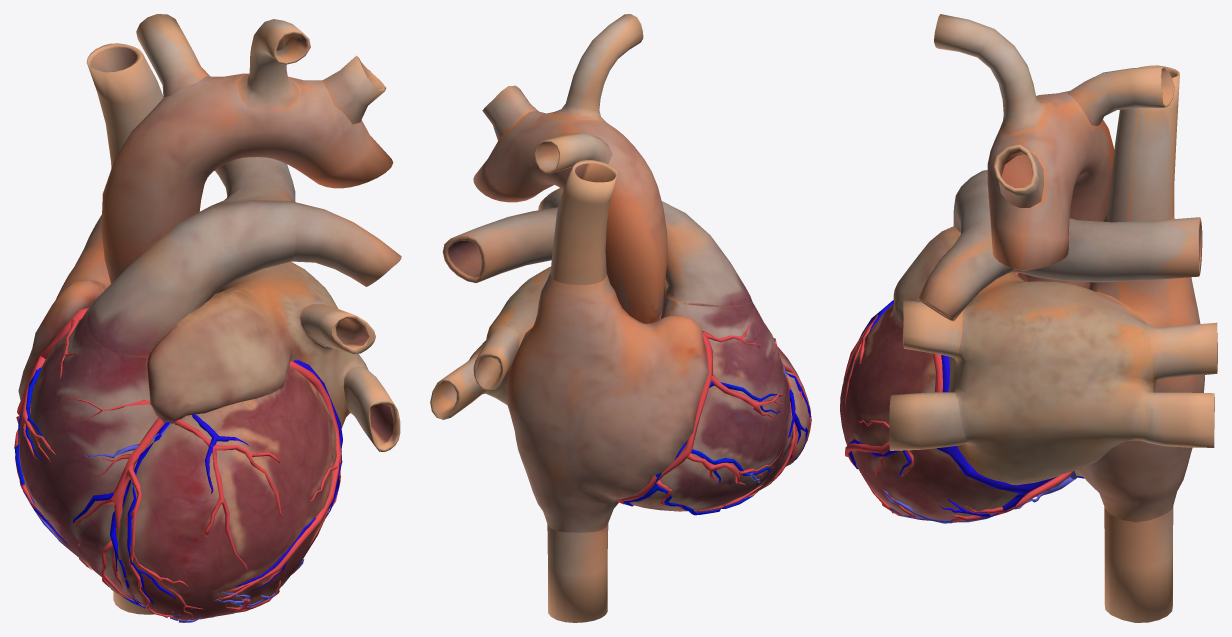
Rendered from Heart2.fbx.
3 renders of one model, left to right at view 1: azimuth 30°, elevation 25°; view 2: azimuth 150°, elevation 25°; view 3: azimuth 270°, elevation 25°, orthographic. The views are drawn at different scales.
Visible parts, largest first — view 1: JANTUNG.004, JANTUNG.019, JANTUNG, JANTUNG.009, JANTUNG.002, JANTUNG.006, JANTUNG.021, JANTUNG.022, JANTUNG.011, JANTUNG.007, JANTUNG.018, JANTUNG.014 (+9 smaller); view 2: JANTUNG.007, JANTUNG, JANTUNG.019, JANTUNG.021, JANTUNG.002, JANTUNG.057, JANTUNG.020, JANTUNG.011, JANTUNG.009, JANTUNG.018, JANTUNG.015, JANTUNG.016 (+5 smaller); view 3: JANTUNG.009, JANTUNG.019, JANTUNG.004, JANTUNG.007, JANTUNG.057, JANTUNG.021, JANTUNG.020, JANTUNG.011, JANTUNG.006, JANTUNG.014, JANTUNG.018, JANTUNG.016 (+7 smaller).
Part boxes in pixels (bbox=[...]): JANTUNG.004: bbox=[110, 366, 336, 619]; JANTUNG.019: bbox=[101, 73, 393, 293]; JANTUNG: bbox=[18, 296, 157, 601]; JANTUNG.009: bbox=[147, 261, 368, 428]; JANTUNG.002: bbox=[87, 199, 296, 357]; JANTUNG.006: bbox=[290, 201, 401, 286]; JANTUNG.021: bbox=[86, 43, 163, 168]; JANTUNG.022: bbox=[63, 361, 341, 619]; JANTUNG.011: bbox=[238, 19, 310, 110]; JANTUNG.007: bbox=[18, 214, 110, 400]; JANTUNG.018: bbox=[136, 14, 210, 97]; JANTUNG.014: bbox=[343, 366, 400, 451]; JANTUNG.007: bbox=[506, 272, 708, 532]; JANTUNG: bbox=[629, 296, 795, 511]; JANTUNG.019: bbox=[473, 111, 667, 323]; JANTUNG.021: bbox=[550, 160, 616, 284]; JANTUNG.002: bbox=[661, 201, 752, 306]; JANTUNG.057: bbox=[442, 207, 558, 283]; JANTUNG.020: bbox=[547, 523, 608, 622]; JANTUNG.011: bbox=[552, 14, 643, 122]; JANTUNG.009: bbox=[469, 266, 667, 405]; JANTUNG.018: bbox=[534, 133, 612, 173]; JANTUNG.015: bbox=[473, 327, 519, 391]; JANTUNG.016: bbox=[430, 357, 483, 419]; JANTUNG.009: bbox=[893, 226, 1156, 485]; JANTUNG.019: bbox=[987, 91, 1114, 288]; JANTUNG.004: bbox=[840, 303, 1072, 520]; JANTUNG.007: bbox=[1074, 214, 1204, 522]; JANTUNG.057: bbox=[1010, 217, 1202, 282]; JANTUNG.021: bbox=[1106, 65, 1179, 222]; JANTUNG.020: bbox=[1104, 506, 1173, 622]; JANTUNG.011: bbox=[934, 14, 1048, 135]; JANTUNG.006: bbox=[917, 222, 1013, 321]; JANTUNG.014: bbox=[889, 392, 967, 450]; JANTUNG.018: bbox=[1067, 66, 1174, 125]; JANTUNG.016: bbox=[1141, 392, 1214, 447].
Size of the model in its own units: 652 by 1106 by 621.
